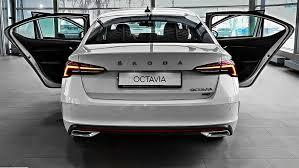skoda: (111, 53, 184, 71)
